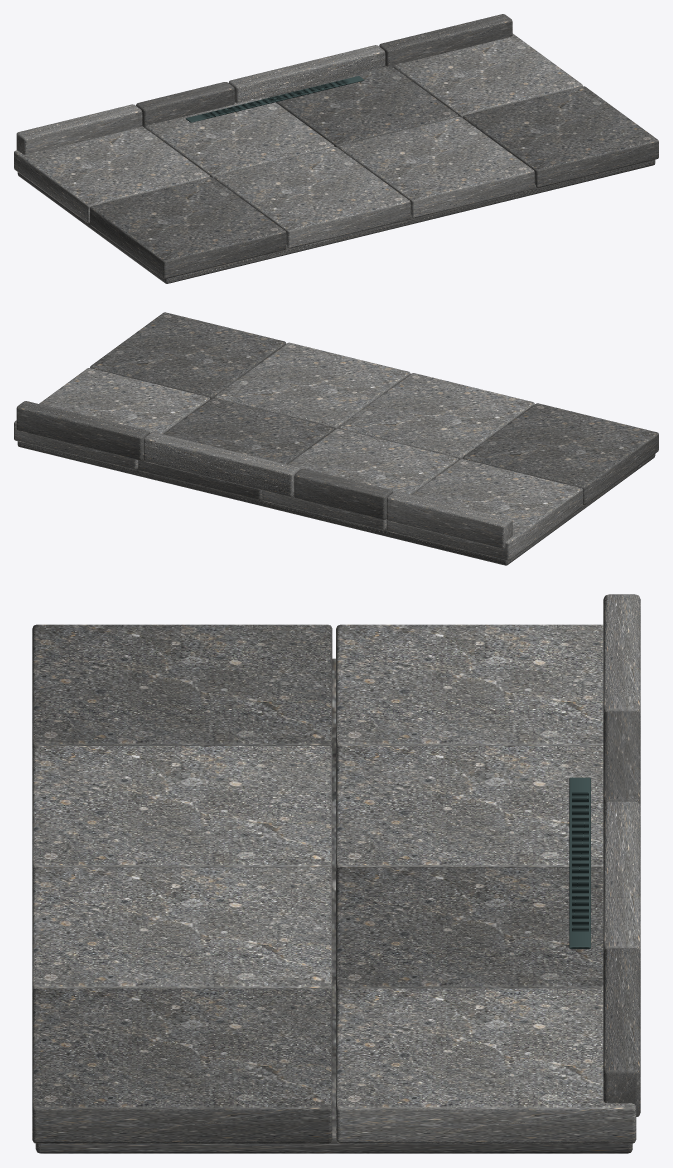
File: StoneBath.fbx
3 renders of one model, top to bottom at view 1: azimuth 30°, elevation 25°; view 2: azimuth 150°, elevation 25°; view 3: azimuth 270°, elevation 25°, orthographic. The views are drawn at different scales.
Parts seen in each view (by area): view 1: StoneBath_Mesh; view 2: StoneBath_Mesh; view 3: StoneBath_Mesh.
Part boxes in pixels (left/top/right/bottom): StoneBath_Mesh: left=14, top=14, right=658, bottom=283; StoneBath_Mesh: left=14, top=312, right=658, bottom=565; StoneBath_Mesh: left=32, top=594, right=640, bottom=1153.
Size of the model in its own units: 1.29 by 0.1055 by 0.683.
1 material, 1 textured.
